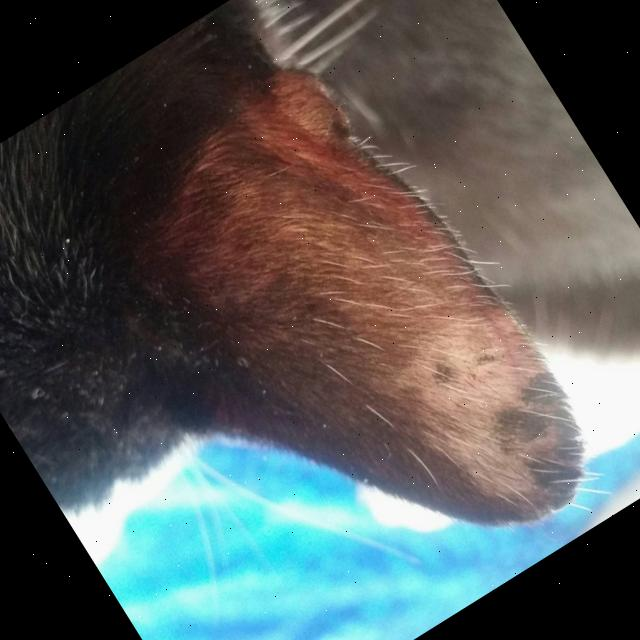cat-scabies: (123, 34, 638, 622)
